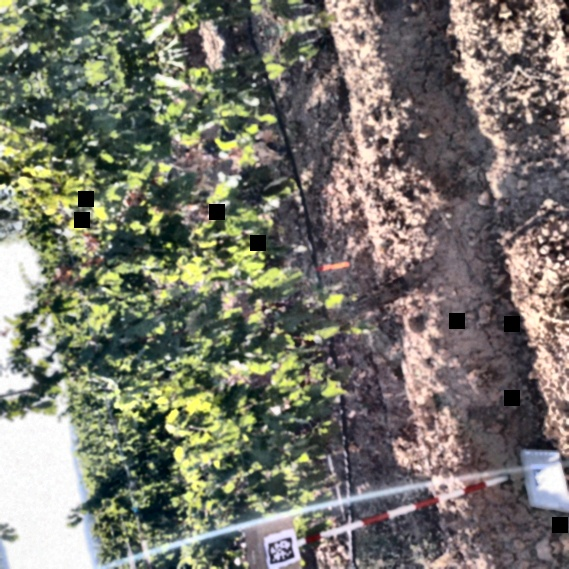QR: (264, 536, 298, 566)
